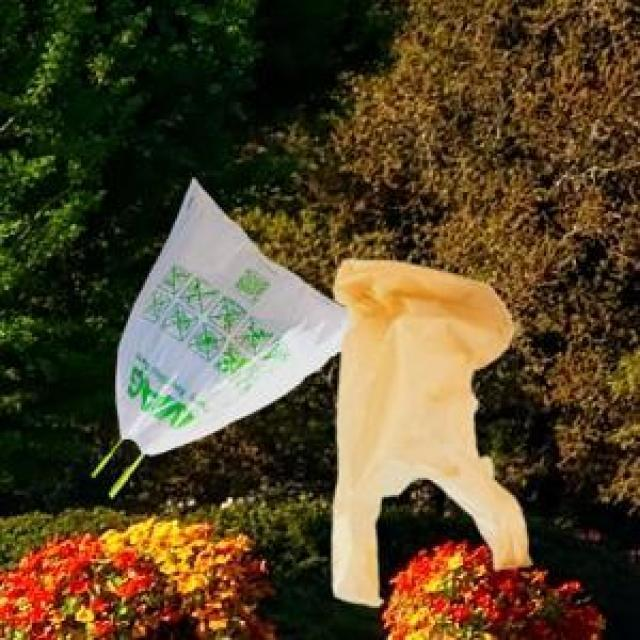waste: (119, 179, 530, 606)
